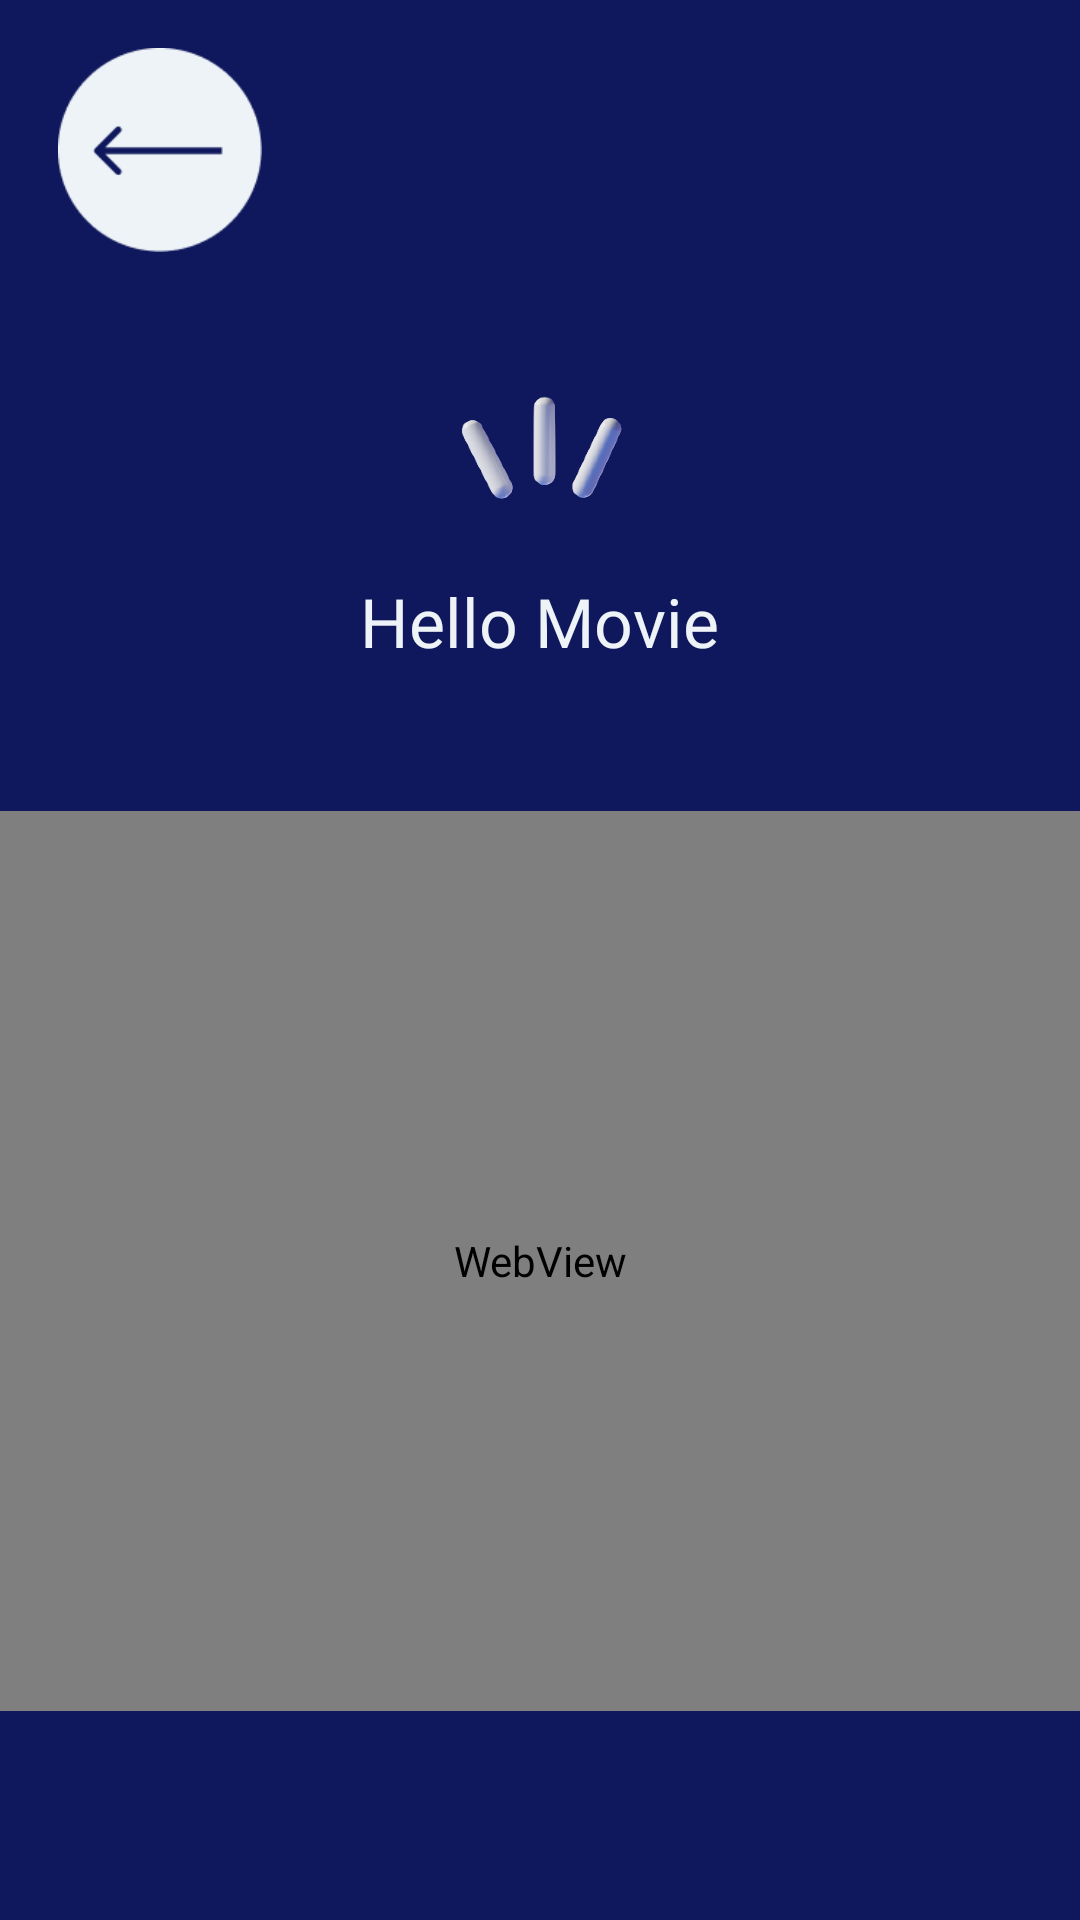

Locate icon controls on the screen. Image size 1080*1920, boxes as (x1, y1, x2, y2).
back: (58, 48, 262, 252)
lines: (462, 397, 622, 499)
